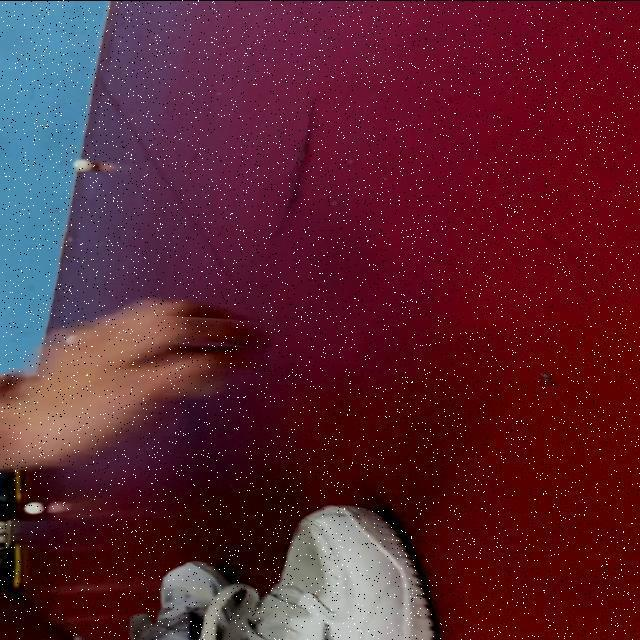ping-pong-ball: (21, 498, 49, 516)
